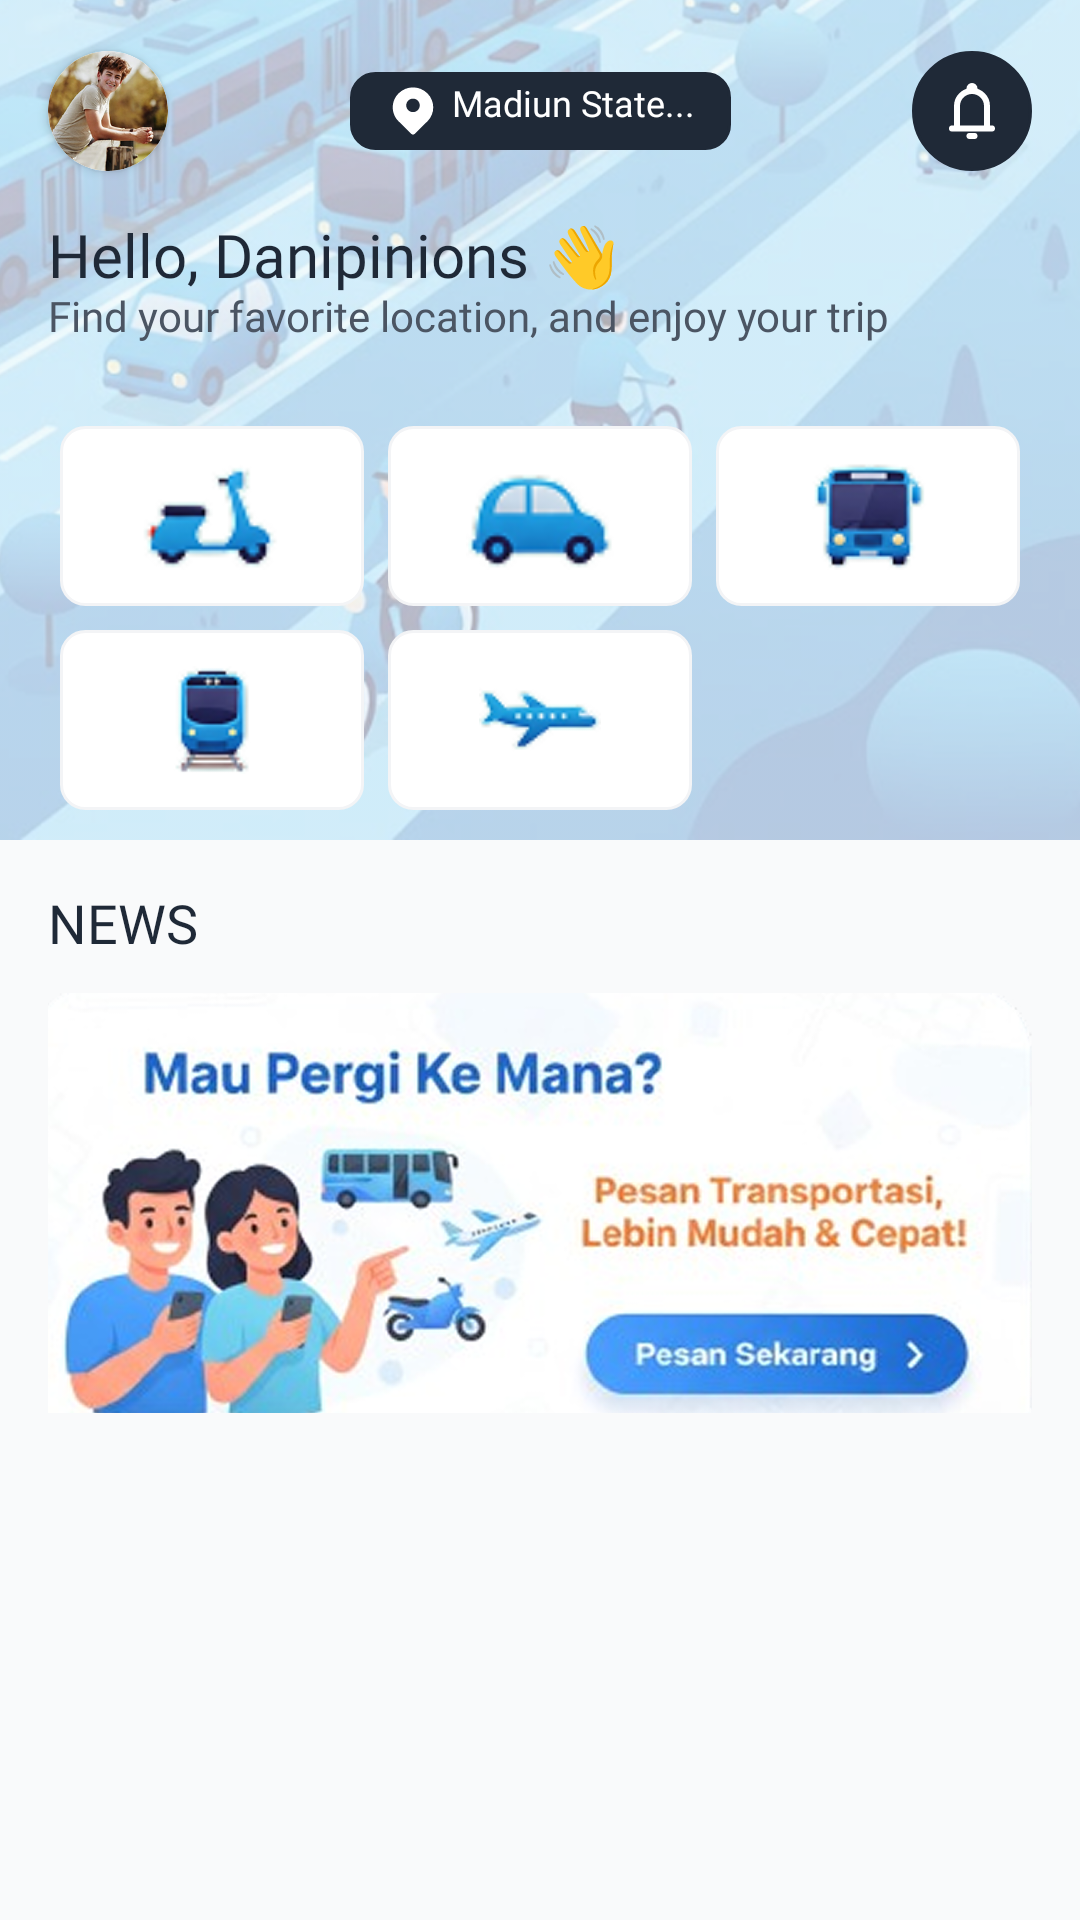

Icon bounding boxes for this 1080 × 1920 phone screenshot, format (x1, y1, x2, y2):
bus: (716, 426, 1020, 606)
car: (388, 426, 692, 606)
motor: (60, 426, 364, 606)
notification: (912, 51, 1032, 171)
plane: (388, 630, 692, 810)
train: (60, 630, 364, 810)
